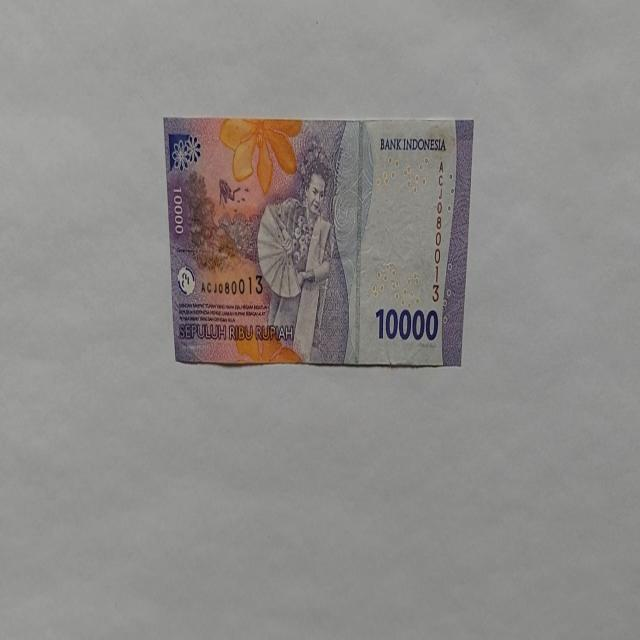sepuluh ribu rupiah: (162, 114, 474, 368)
